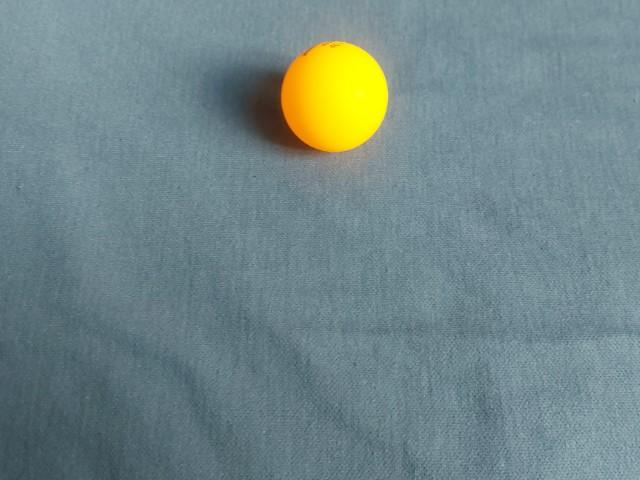oball: (272, 40, 393, 156)
